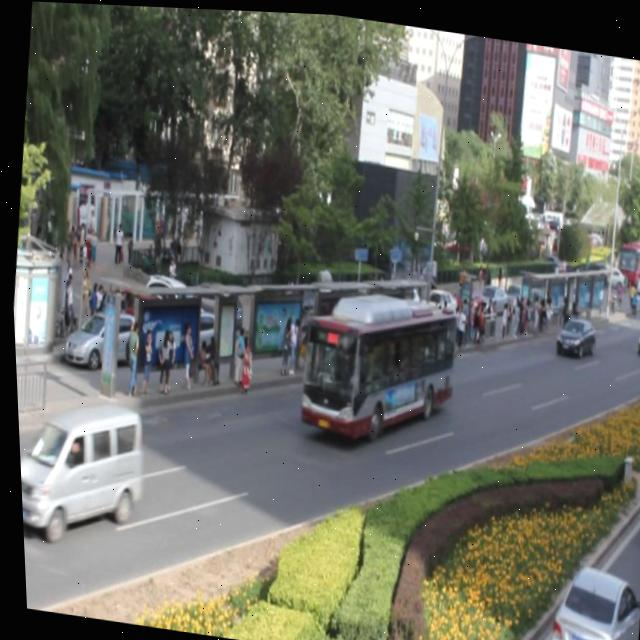car: (550, 307, 593, 352), (630, 311, 640, 350)
truck: (14, 388, 144, 539)
van: (291, 278, 457, 440)
